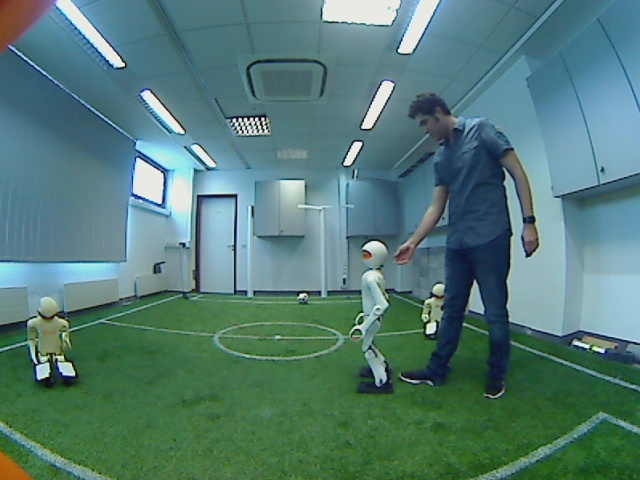ball: (293, 289, 315, 309)
robot: (349, 238, 400, 394), (19, 291, 88, 387), (418, 281, 454, 343)
